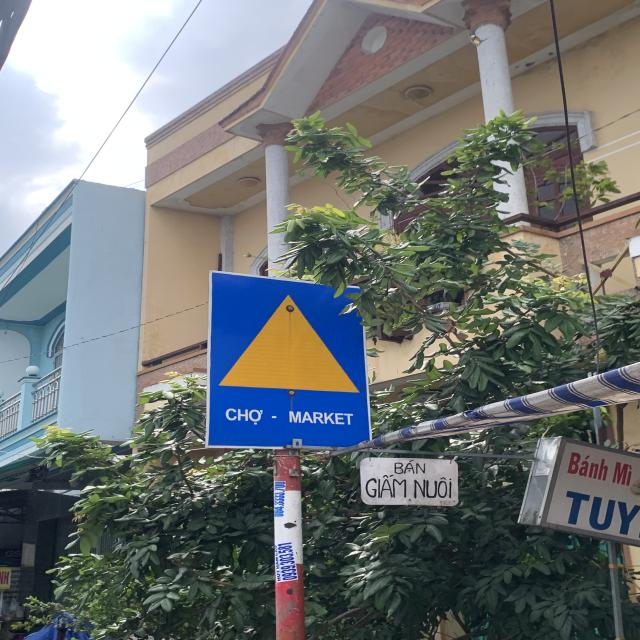Cho_Quay_Xe: (210, 272, 371, 447)
